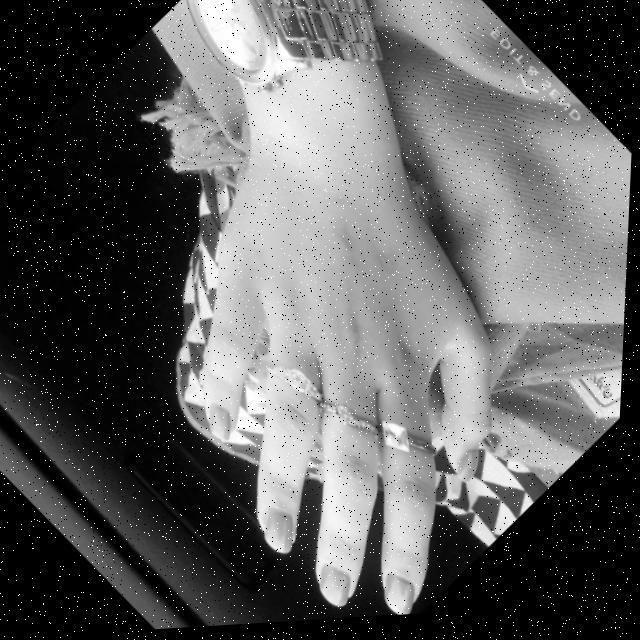no-gloves: (58, 88, 631, 636)
